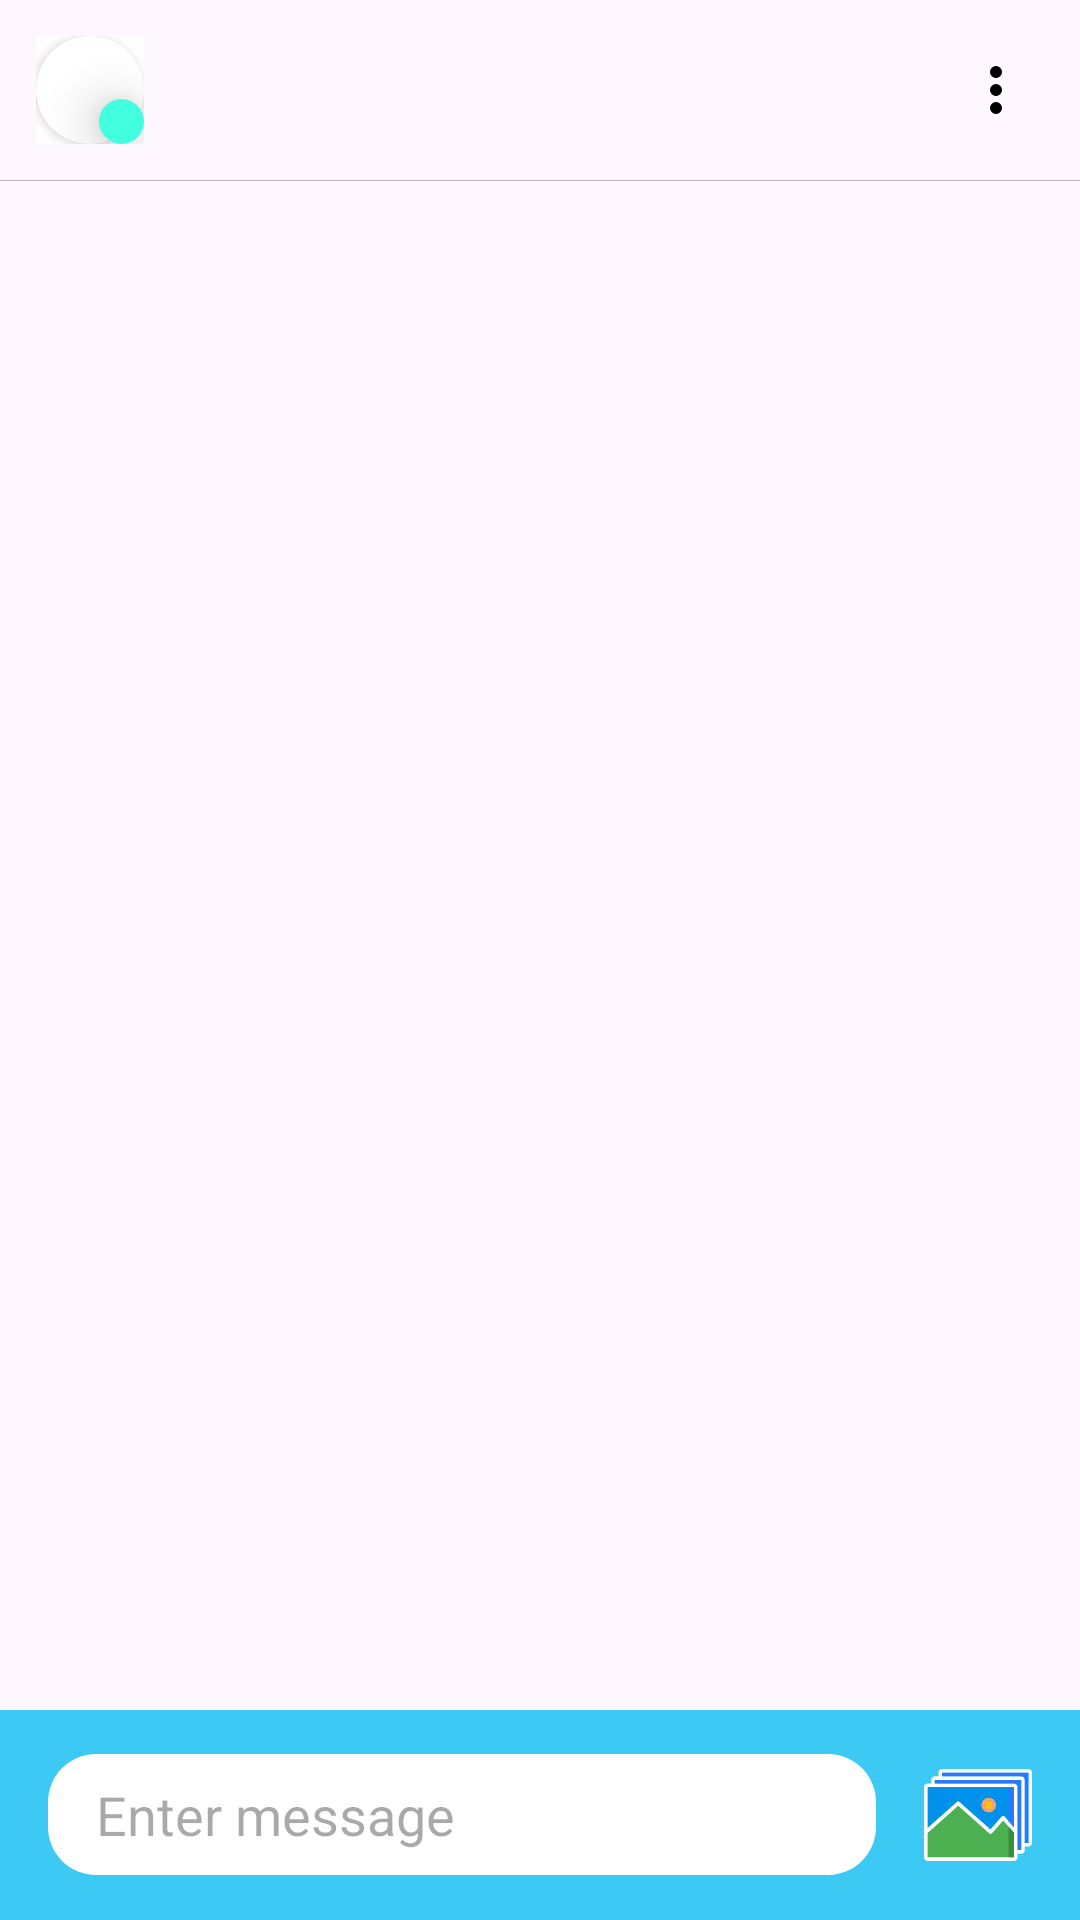

Icons on this 1080w x 1920h Android screen, each with the point to tap as [x,y]:
gallery: [978,1815]
more vert: [996,90]
